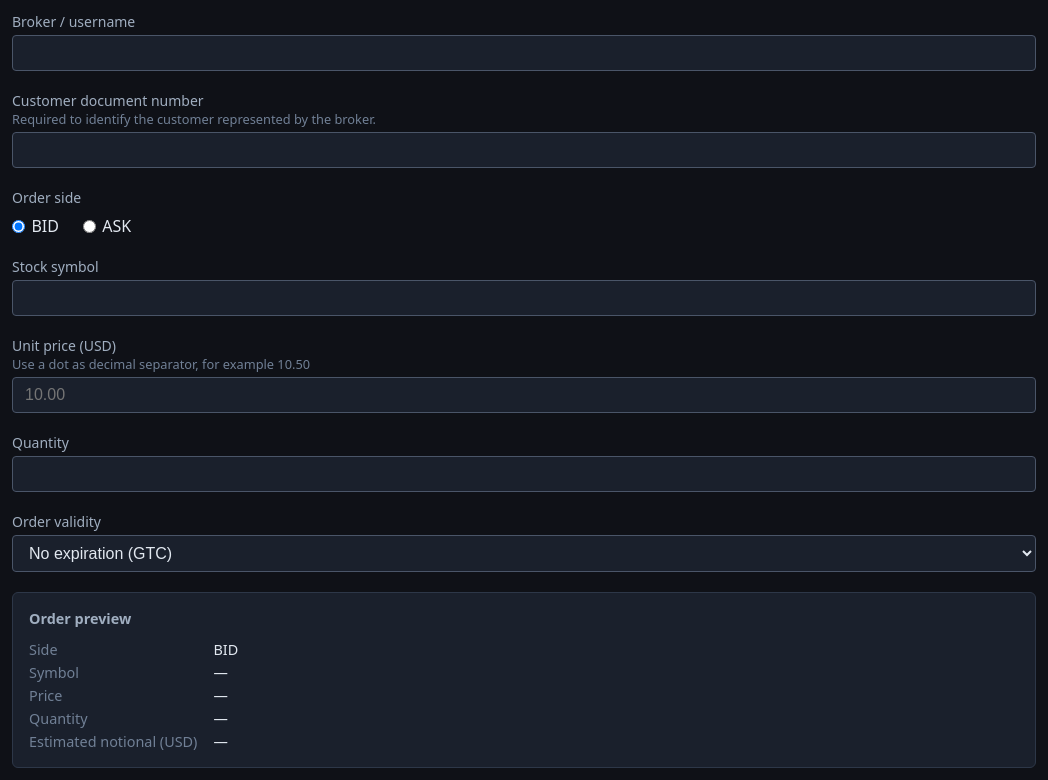
Test: SubmitOrderForm – symbol input › removes non-letter characters
Type "A1B2" into the field labelled "Stock symbol" at (524, 298), box x1=12 y1=280 x2=1036 y2=316
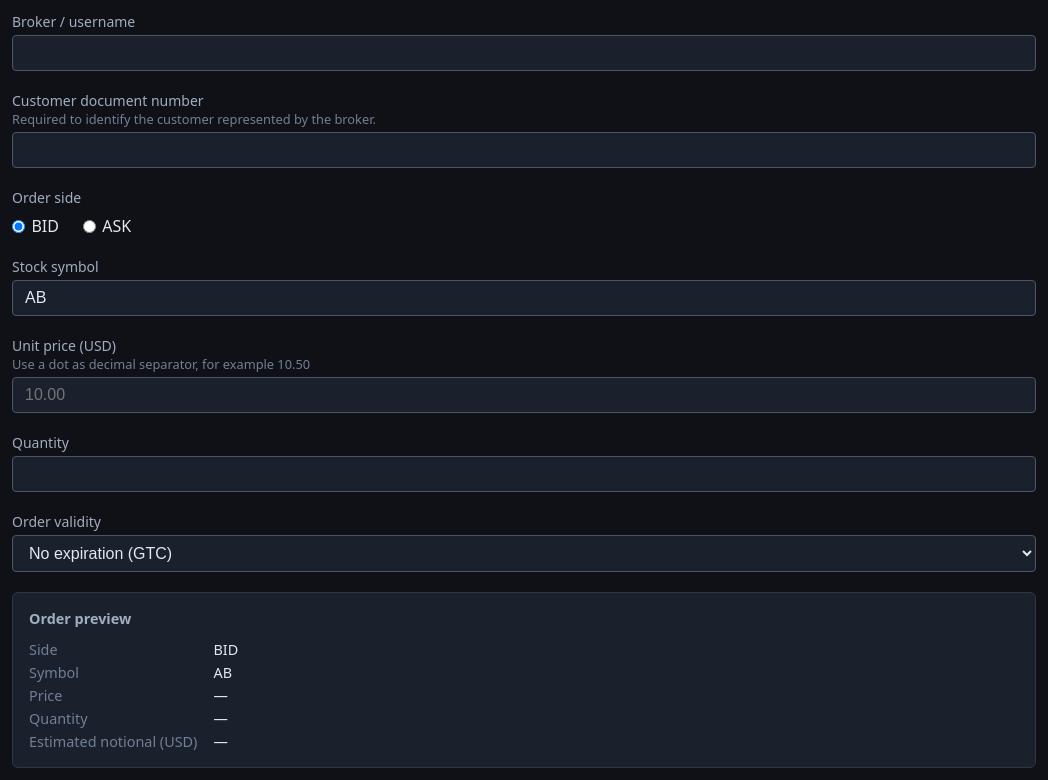
Check: the field labelled "Stock symbol" holds "AB", box x1=12 y1=280 x2=1036 y2=316
